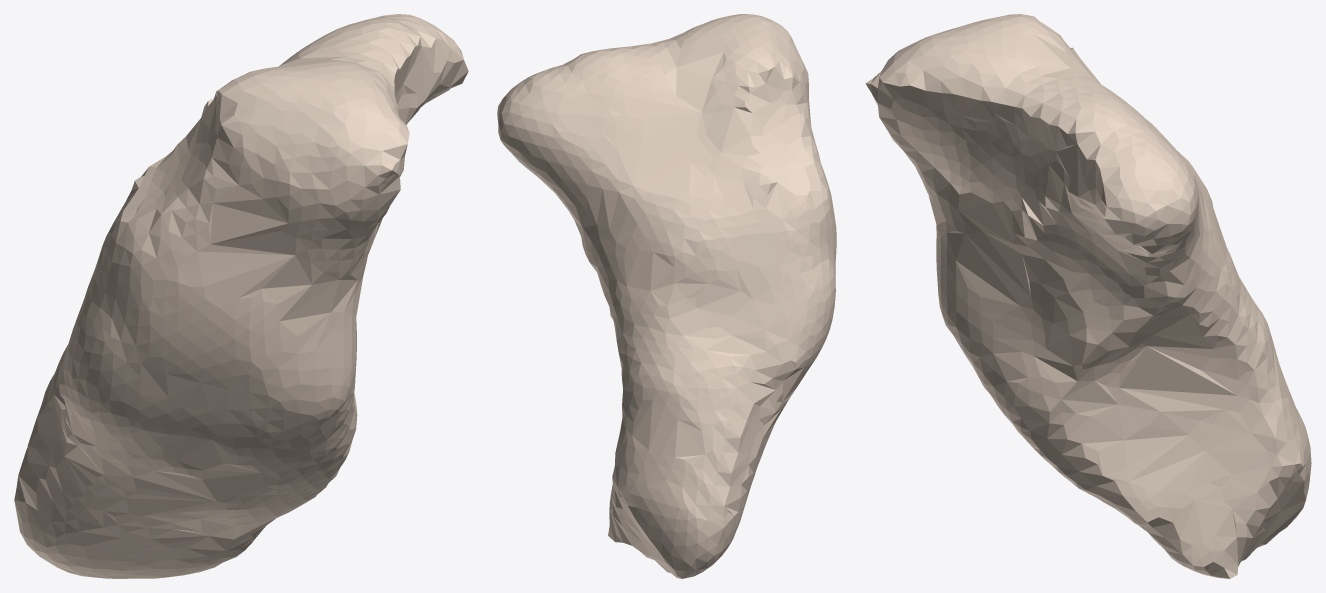
Rendered from Model_626_RH__Medial_vestibular_nucleus_(MVe).obj.
3 renders of one model, left to right at view 1: azimuth 30°, elevation 25°; view 2: azimuth 150°, elevation 25°; view 3: azimuth 270°, elevation 25°, orthographic. The views are drawn at different scales.
Size of the model in its own units: 2.27 by 3.19 by 2.38.
